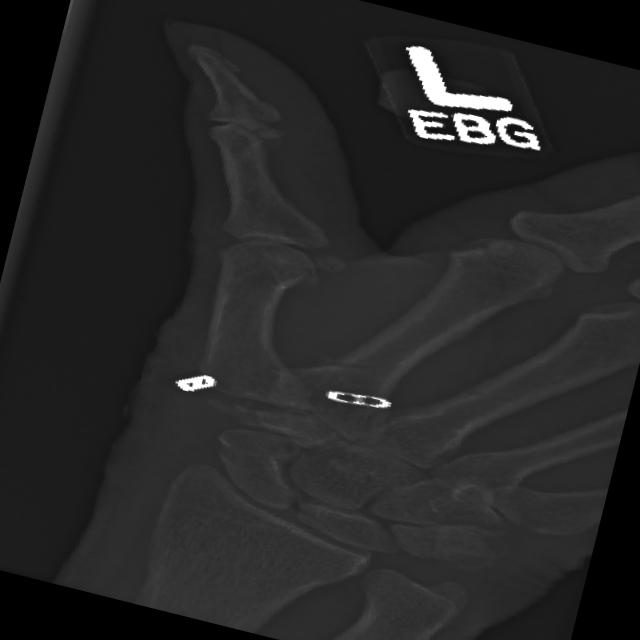fingers positive: (296, 328, 413, 399)
